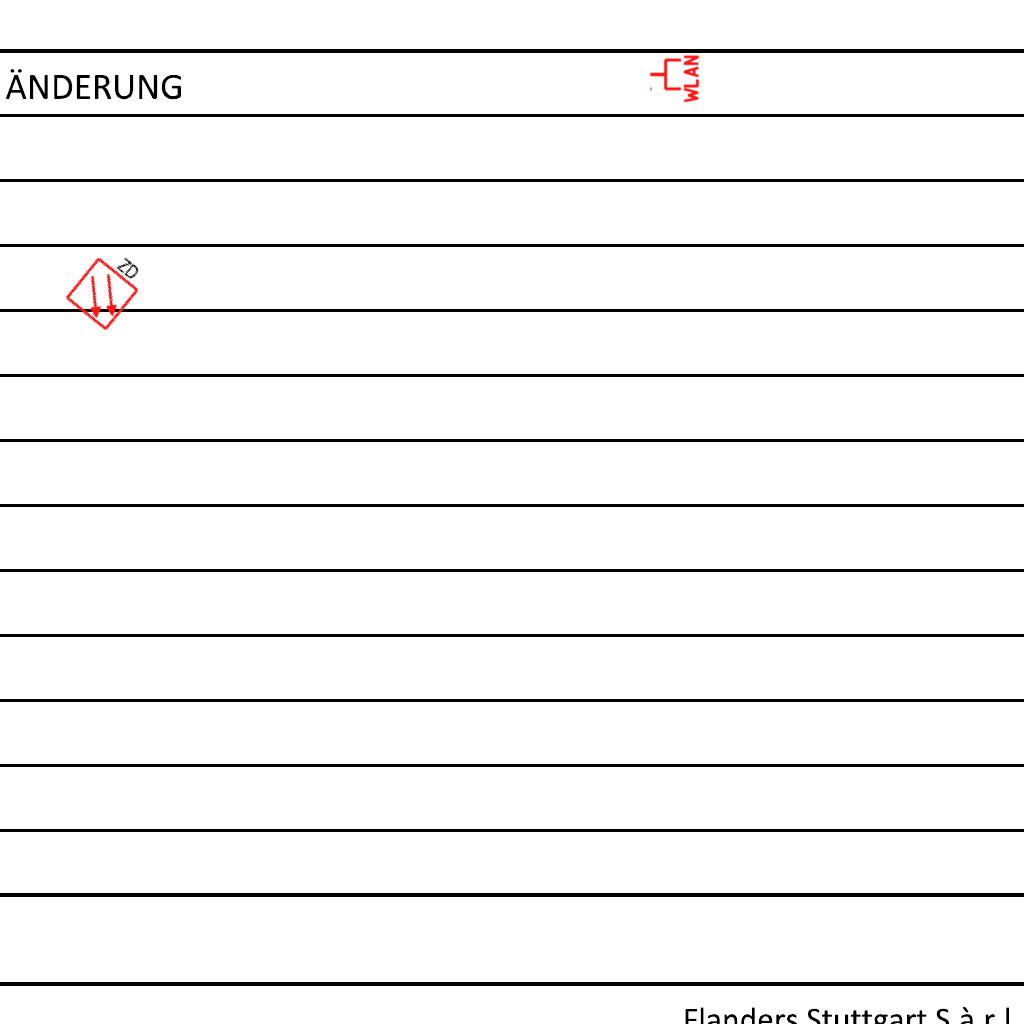WLAN: (648, 53, 700, 105)
ZD_Melder_in_Zwischendecke_mit_Revisionsoeffnung_mind_40_x_40_cm: (62, 239, 153, 333)
